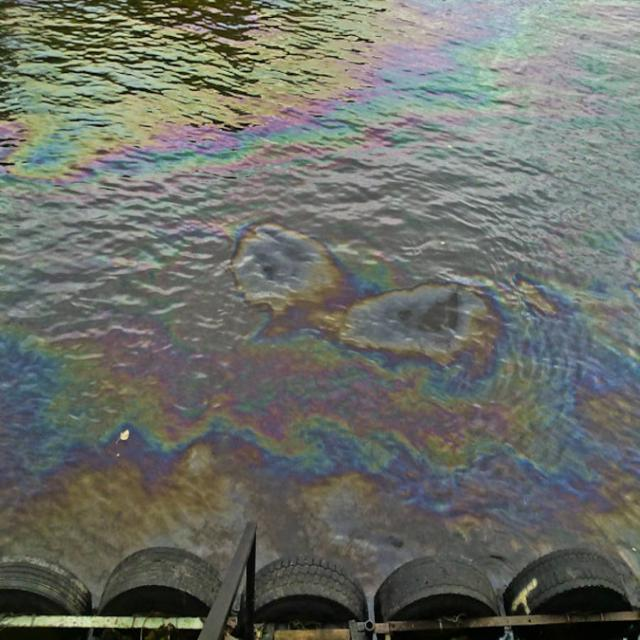rainbow: (0, 1, 640, 594)
